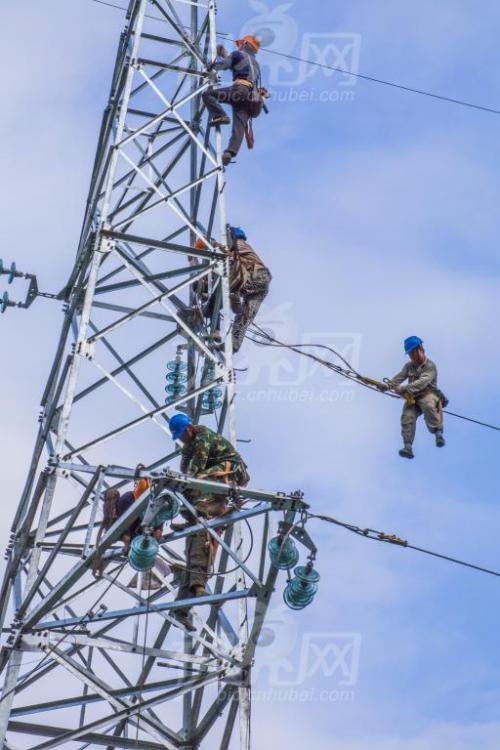boots: (167, 609, 196, 631), (208, 115, 230, 126), (244, 125, 254, 148), (398, 447, 414, 459), (222, 151, 234, 165), (435, 434, 445, 447)
hard-hat: (168, 413, 191, 440), (239, 34, 261, 54), (403, 336, 423, 354), (230, 226, 247, 239)
person: (166, 412, 250, 631), (200, 34, 269, 165), (377, 334, 448, 458), (224, 225, 273, 354)
ppe-suit: (168, 438, 244, 592), (199, 34, 269, 165), (386, 357, 444, 448), (231, 237, 269, 348)
